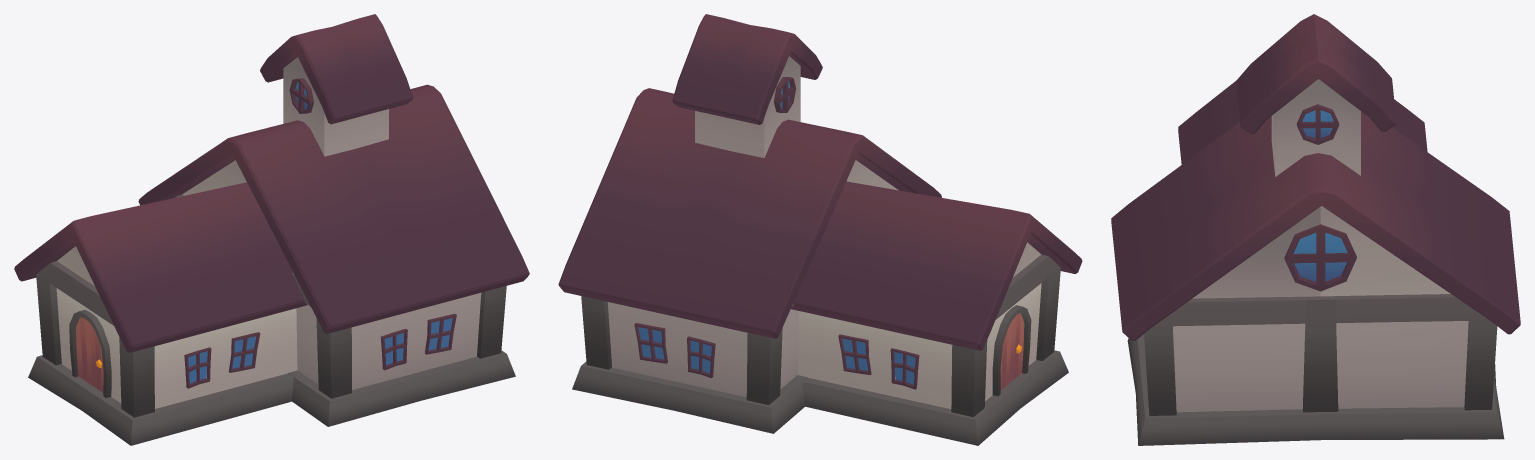
Rendered from house_purple.glb.
3 views of the same model, side by side, from view 1: azimuth 30°, elevation 25°; view 2: azimuth 150°, elevation 25°; view 3: azimuth 270°, elevation 25° (orthographic). The views are drawn at different scales.
Parts seen in each view (by area): view 1: House_Purple.002_Material.005_0; view 2: House_Purple.002_Material.005_0; view 3: House_Purple.002_Material.005_0.
Part boxes in pixels (box(x1,y1,x2,y2)): House_Purple.002_Material.005_0: box(14, 14, 529, 445); House_Purple.002_Material.005_0: box(558, 14, 1082, 445); House_Purple.002_Material.005_0: box(1111, 14, 1520, 445).
Bounding box in the file's own units: 7.9 × 6.29 × 6.56.
Materials: 1 (1 with a texture image).
